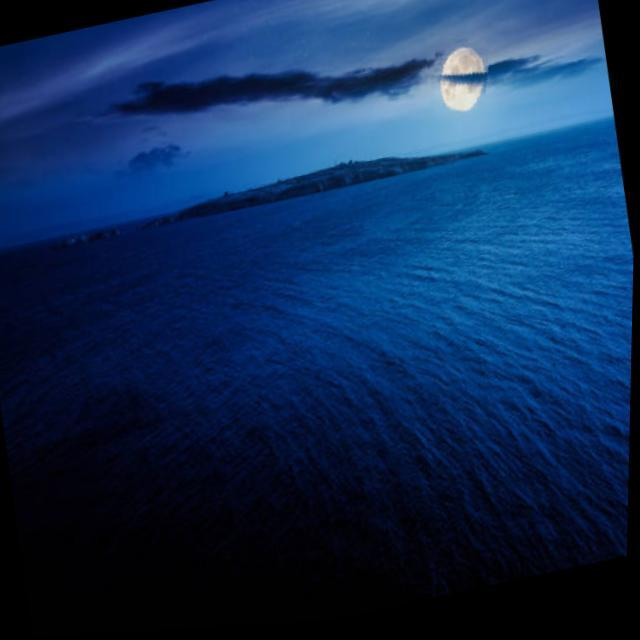moon: (424, 40, 496, 124)
